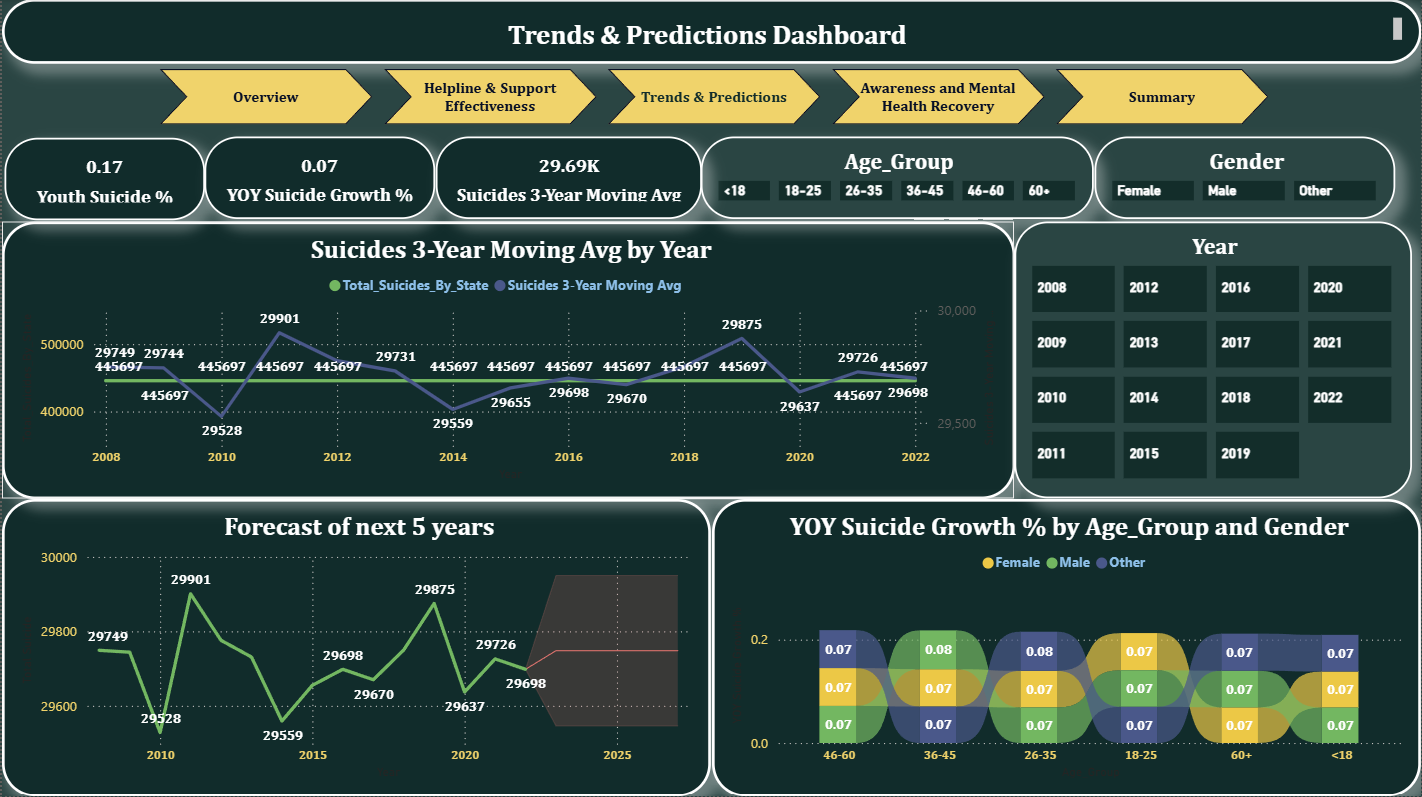

This screenshot's page, from the dashboard's own definition file:
{"tool":"powerbi","page":{"name":"Trends & Predictions","canvas":[1280,720],"ordinal":2},"visuals":[{"type":"lineChart","title":"Forecast of next 5 years","fields":{"Category":["State_Suicide_Stats_Cleaned.Year.Variation.Date Hierarchy.Year"],"Y":["State_Suicide_Stats_Cleaned.Total Suicide"]},"box":[0,451.2,639.5,269],"z":0},{"type":"lineChart","title":"Suicides 3-Year Moving Avg by Year","fields":{"Category":["State_Suicide_Stats_Cleaned.Year.Variation.Date Hierarchy.Year"],"Y2":["State_Suicide_Stats_Cleaned.Suicides 3-Year Moving Avg"],"Y":["State_Suicide_Stats_Cleaned.Total_Suicides_By_State"]},"box":[0,200.5,913.5,250.7],"z":1000},{"type":"ribbonChart","fields":{"Category":["State_Suicide_Stats_Cleaned.Age_Group"],"Y":["State_Suicide_Stats_Cleaned.YOY Suicide Growth %"],"Series":["State_Suicide_Stats_Cleaned.Gender"]},"box":[640.8,451.2,639.5,269],"z":2000},{"type":"advancedSlicerVisual","fields":{"Values":["State_Suicide_Stats_Cleaned.Gender"]},"box":[985.1,124.2,271.5,74.6],"z":3000},{"type":"advancedSlicerVisual","fields":{"Values":["State_Suicide_Stats_Cleaned.Age_Group"]},"box":[630.5,124.2,354.6,74.6],"z":4000},{"type":"advancedSlicerVisual","fields":{"Values":["State_Suicide_Stats_Cleaned.Year"]},"box":[913.5,200.5,358.3,249.5],"z":5000},{"type":"textbox","box":[0,0,1280.3,58],"z":6000},{"type":"card","fields":{"Values":["State_Suicide_Stats_Cleaned.Youth Suicide %"]},"box":[2,125.5,181,74.6],"z":7000},{"type":"card","fields":{"Values":["State_Suicide_Stats_Cleaned.YOY Suicide Growth %"]},"box":[182.9,124.2,207.9,74.6],"z":8000},{"type":"card","fields":{"Values":["State_Suicide_Stats_Cleaned.Suicides 3-Year Moving Avg"]},"box":[390.8,124.2,239.7,74.6],"z":9000},{"type":"pageNavigator","box":[141.8,63.6,1000.3,50.1],"z":10000}]}

Visuals, with their boxes in screenshot pixels (x1, y1, x2, y2), scaled from the page's 1280x720 canvas onto the 1422x797 screenshot:
"Forecast of next 5 years" lineChart: crop(0, 499, 710, 796)
"Suicides 3-Year Moving Avg by Year" lineChart: crop(0, 222, 1015, 499)
ribbonChart - State_Suicide_Stats_Cleaned.Age_Group x State_Suicide_Stats_Cleaned.YOY Suicide Growth %: crop(712, 499, 1421, 796)
advancedSlicerVisual - State_Suicide_Stats_Cleaned.Gender: crop(1094, 137, 1396, 220)
advancedSlicerVisual - State_Suicide_Stats_Cleaned.Age_Group: crop(700, 137, 1094, 220)
advancedSlicerVisual - State_Suicide_Stats_Cleaned.Year: crop(1015, 222, 1413, 498)
textbox: crop(0, 0, 1421, 64)
card - State_Suicide_Stats_Cleaned.Youth Suicide %: crop(2, 139, 203, 221)
card - State_Suicide_Stats_Cleaned.YOY Suicide Growth %: crop(203, 137, 434, 220)
card - State_Suicide_Stats_Cleaned.Suicides 3-Year Moving Avg: crop(434, 137, 700, 220)
pageNavigator: crop(158, 70, 1269, 126)
